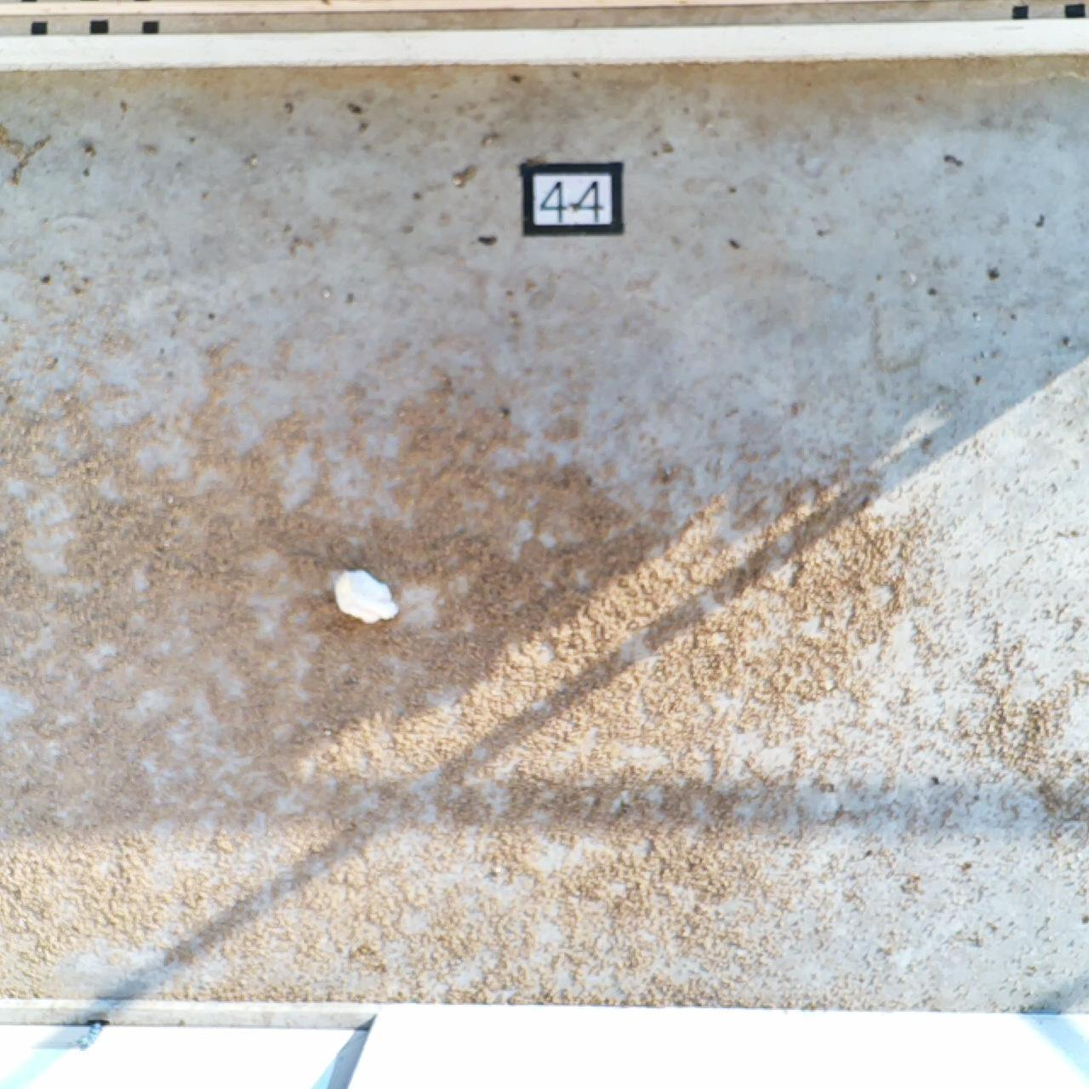chicken: (331, 567, 402, 627)
